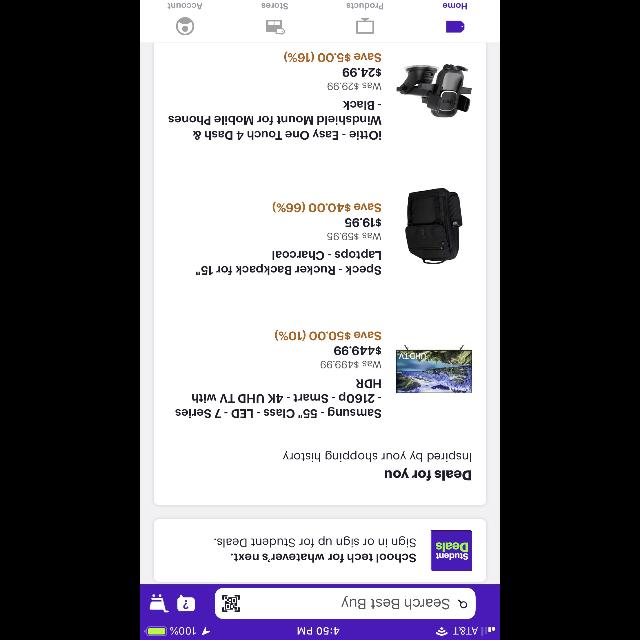icon: (150, 594, 168, 612), (176, 17, 194, 35), (178, 594, 195, 612), (446, 21, 464, 33), (458, 600, 467, 608)
image: (406, 188, 462, 264), (396, 64, 472, 118), (396, 344, 472, 394), (431, 530, 472, 570), (222, 594, 240, 612), (356, 18, 374, 34), (266, 20, 284, 34)
input: (214, 588, 476, 618)
text: (168, 100, 382, 140), (175, 379, 381, 418), (214, 536, 416, 562), (196, 249, 380, 275), (283, 451, 471, 462), (341, 596, 449, 610), (273, 202, 381, 212), (275, 330, 381, 340), (384, 468, 472, 480), (284, 52, 381, 62), (321, 360, 382, 368), (334, 346, 382, 356), (327, 232, 381, 240), (327, 82, 381, 90), (342, 68, 382, 76), (345, 218, 381, 226), (346, 4, 384, 10), (168, 3, 202, 9), (262, 3, 288, 9), (443, 3, 467, 9)
uppertaskbar: (140, 626, 500, 640)
